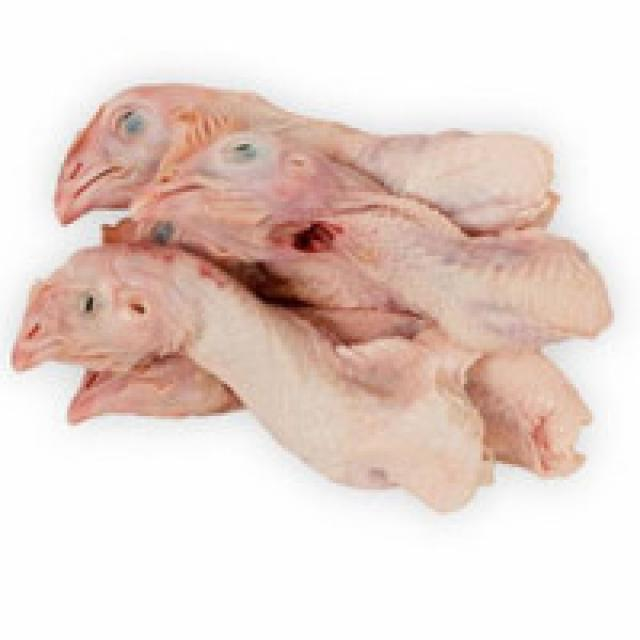chicken: (14, 86, 608, 509)
